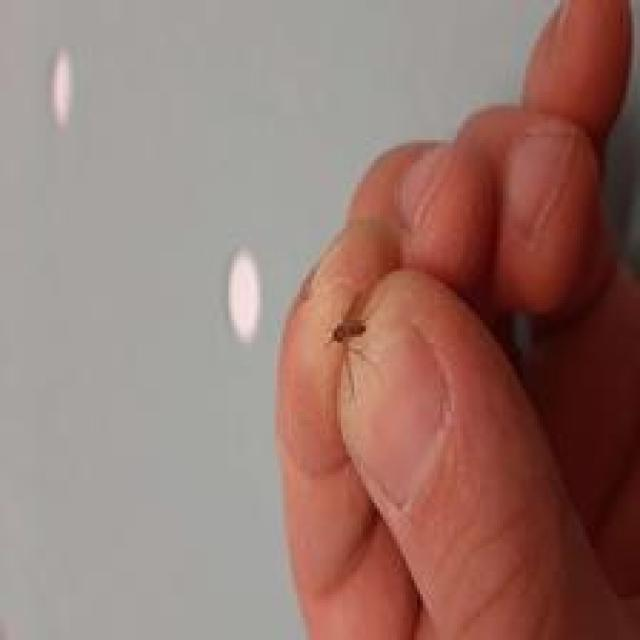Culex: (326, 316, 368, 398)
